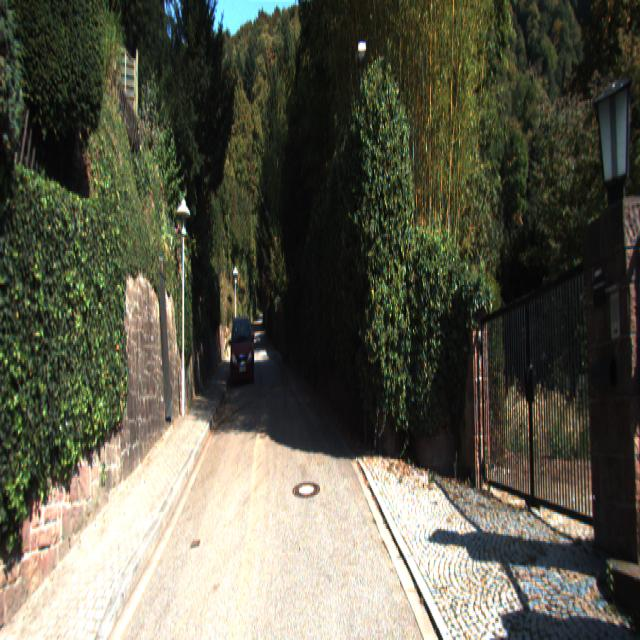Car: (228, 314, 254, 391)
